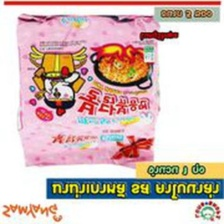snack: (8, 9, 168, 177)
